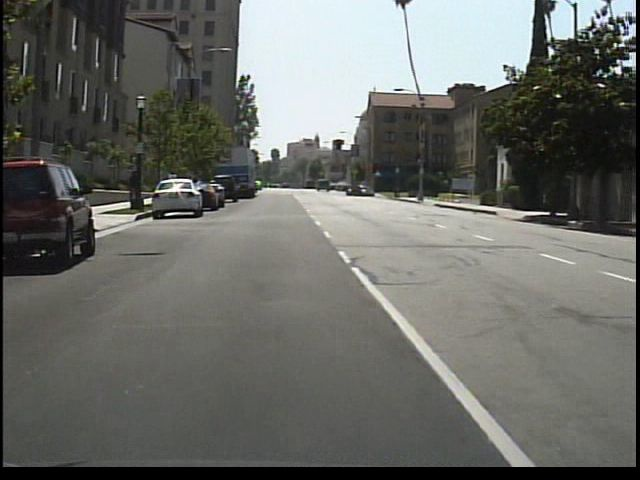person: (125, 167, 137, 202)
